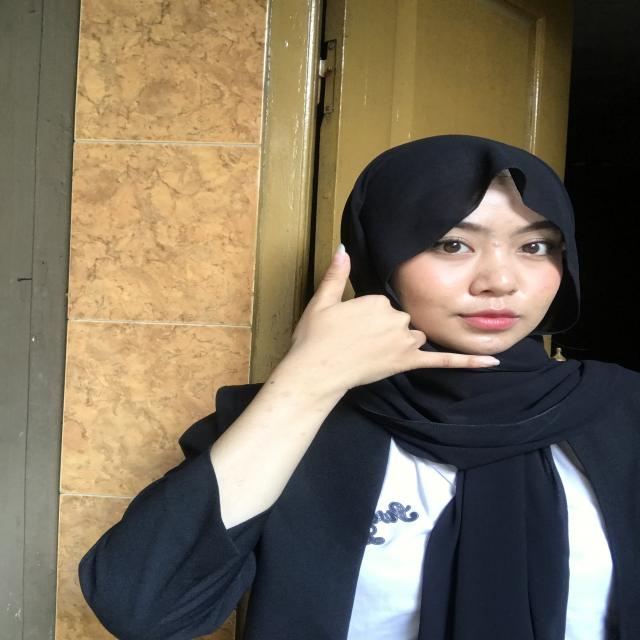telpon: (276, 238, 502, 400)
